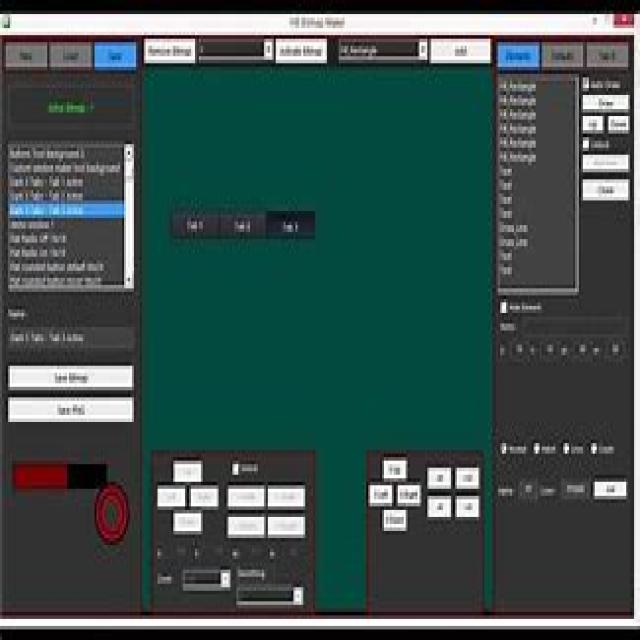button: (6, 359, 137, 393), (6, 393, 136, 425), (6, 322, 138, 353), (429, 33, 494, 66), (168, 208, 220, 243), (220, 206, 267, 244), (266, 208, 316, 243), (48, 37, 94, 72), (143, 36, 196, 66), (275, 37, 328, 65), (92, 40, 138, 72), (3, 38, 49, 70), (496, 39, 542, 70), (224, 481, 266, 512), (581, 176, 631, 202), (266, 512, 309, 542), (540, 41, 587, 68), (266, 482, 307, 512), (225, 512, 267, 541), (581, 152, 631, 176), (583, 40, 629, 66), (592, 474, 628, 506), (580, 93, 632, 114), (171, 456, 204, 484), (380, 454, 410, 484), (156, 482, 188, 510), (560, 474, 592, 502), (188, 483, 222, 509), (170, 511, 205, 536), (454, 492, 482, 523), (426, 493, 454, 524), (366, 479, 395, 508), (380, 508, 409, 535), (453, 466, 482, 492), (426, 466, 454, 492), (395, 483, 423, 509), (517, 476, 540, 504), (539, 334, 558, 364), (538, 477, 560, 502), (510, 336, 528, 365), (606, 115, 632, 135), (495, 478, 517, 501), (607, 336, 626, 362), (559, 335, 576, 364), (581, 115, 605, 135), (527, 337, 543, 366), (591, 338, 606, 363), (612, 14, 636, 29), (498, 337, 510, 364), (576, 339, 590, 362), (590, 10, 602, 30), (602, 13, 612, 30)
checkbox: (499, 298, 509, 319), (582, 73, 591, 91), (581, 135, 590, 152)
dropdownMenu: (336, 34, 429, 64), (197, 33, 275, 61), (233, 583, 307, 606), (180, 567, 232, 592)
menuItem: (8, 202, 122, 218), (8, 159, 122, 175), (8, 140, 87, 162), (8, 258, 109, 274), (7, 188, 86, 206), (8, 175, 85, 192), (8, 274, 107, 284), (8, 247, 68, 260), (8, 232, 70, 244), (8, 219, 56, 231), (500, 122, 536, 136), (500, 94, 536, 108), (499, 108, 536, 121), (499, 234, 533, 248), (501, 220, 534, 234), (501, 137, 536, 150), (499, 80, 536, 92), (501, 151, 536, 163), (500, 249, 515, 263), (500, 264, 515, 277), (500, 192, 513, 206), (500, 178, 513, 192), (500, 208, 514, 220), (500, 166, 513, 177)
radio: (532, 438, 542, 460), (498, 438, 508, 458), (562, 439, 571, 457), (266, 546, 277, 560), (231, 546, 240, 562), (590, 440, 598, 458), (193, 545, 201, 561), (156, 546, 163, 564)
slider: (124, 142, 136, 296), (230, 459, 262, 479), (236, 566, 267, 582), (156, 571, 176, 587)
